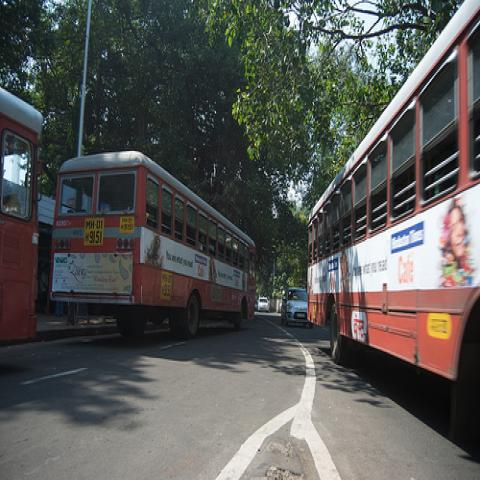bus: (308, 1, 480, 428), (54, 154, 258, 344), (1, 85, 44, 346)
car: (282, 288, 314, 330), (257, 297, 269, 314)
